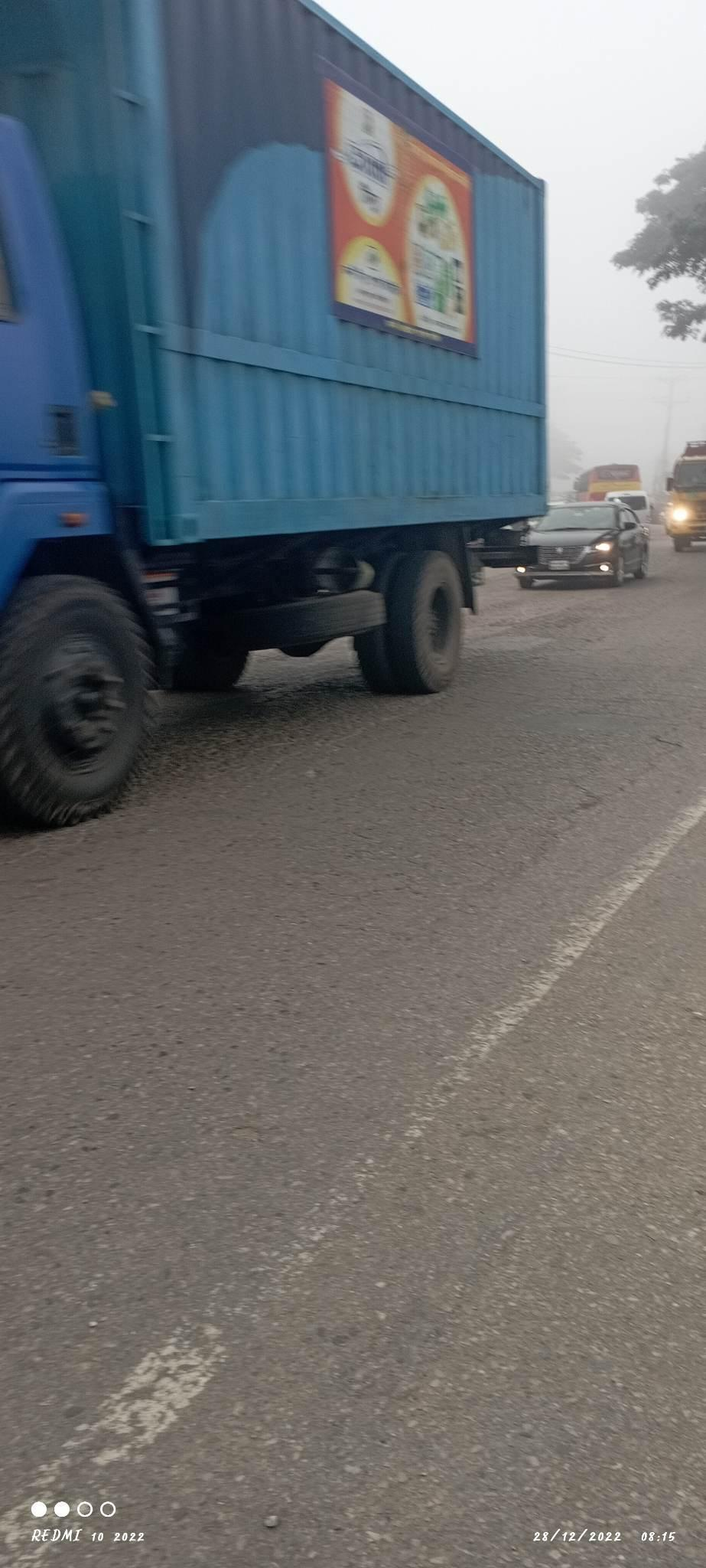Car: (543, 469, 654, 626)
Truck: (3, 5, 572, 829), (667, 426, 706, 570)
